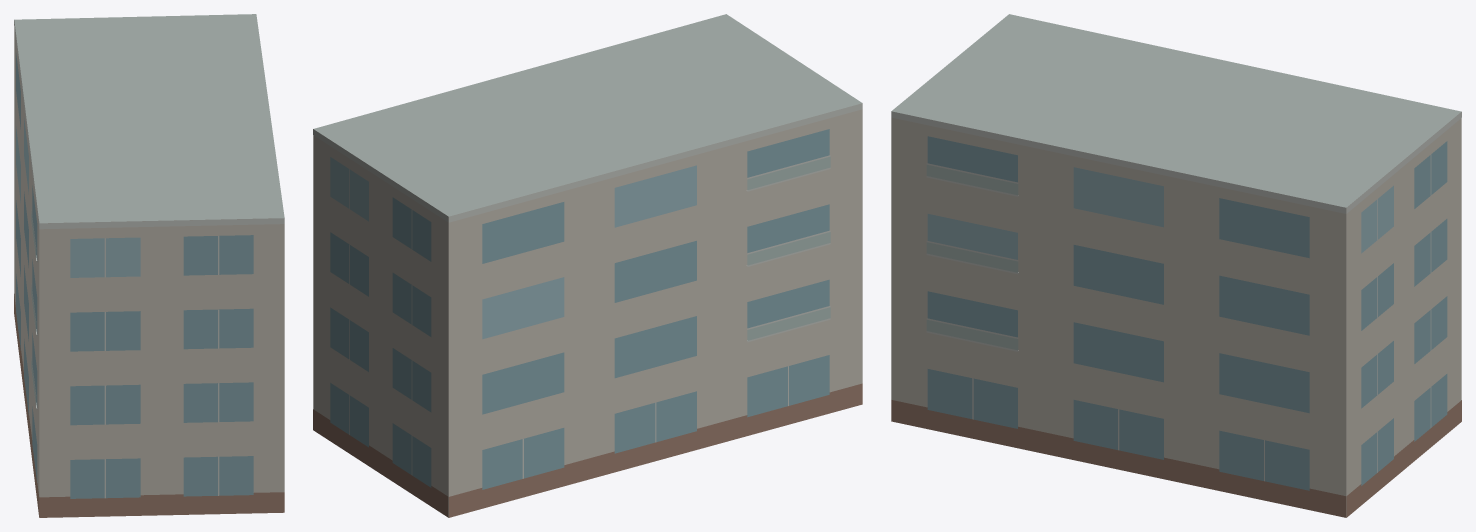
The model's file is survey-upis-32745128.glb.
3 renders of one model, left to right at view 1: azimuth 30°, elevation 25°; view 2: azimuth 150°, elevation 25°; view 3: azimuth 270°, elevation 25°, orthographic. The views are drawn at different scales.
Parts seen in each view (by area): view 1: survey-upis-32745128.tmp; view 2: survey-upis-32745128.tmp; view 3: survey-upis-32745128.tmp.
Part boxes in pixels (bbox=[...]): survey-upis-32745128.tmp: bbox=[14, 14, 284, 517]; survey-upis-32745128.tmp: bbox=[313, 14, 862, 517]; survey-upis-32745128.tmp: bbox=[891, 14, 1461, 517].
Size of the model in its own units: 16.22 by 12.1 by 20.18.
